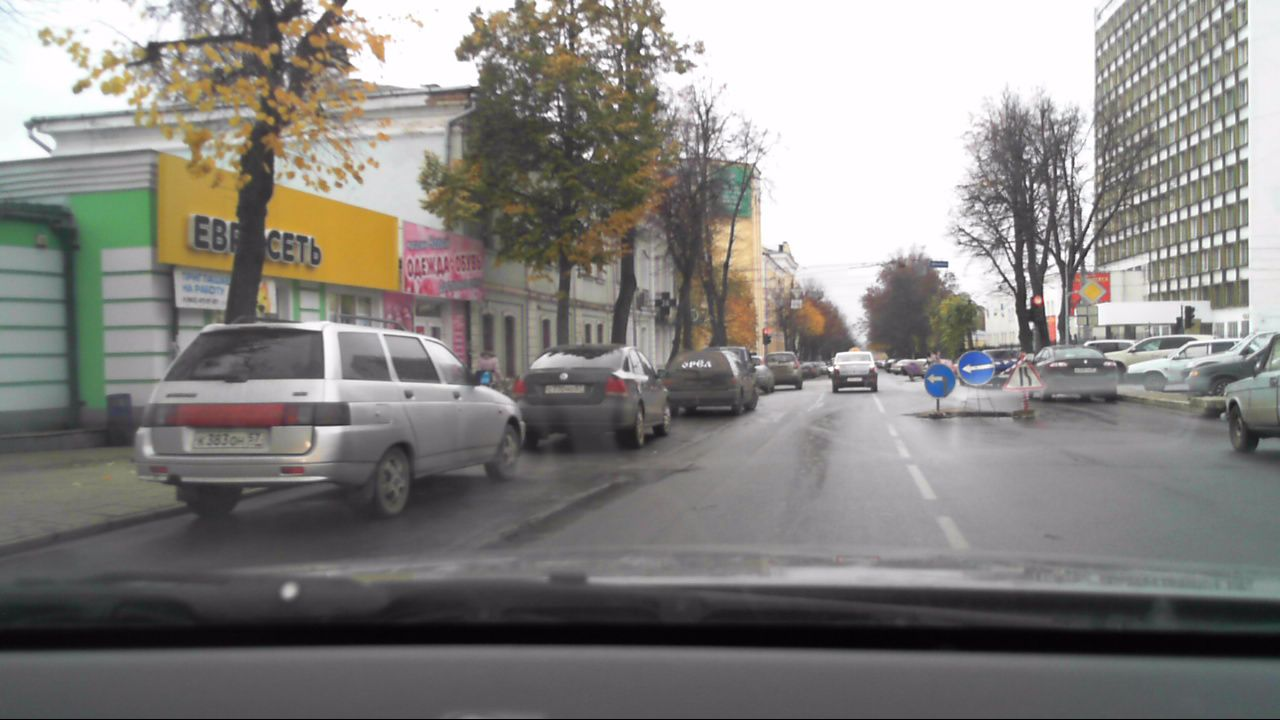Turn Left: (958, 350, 994, 385)
